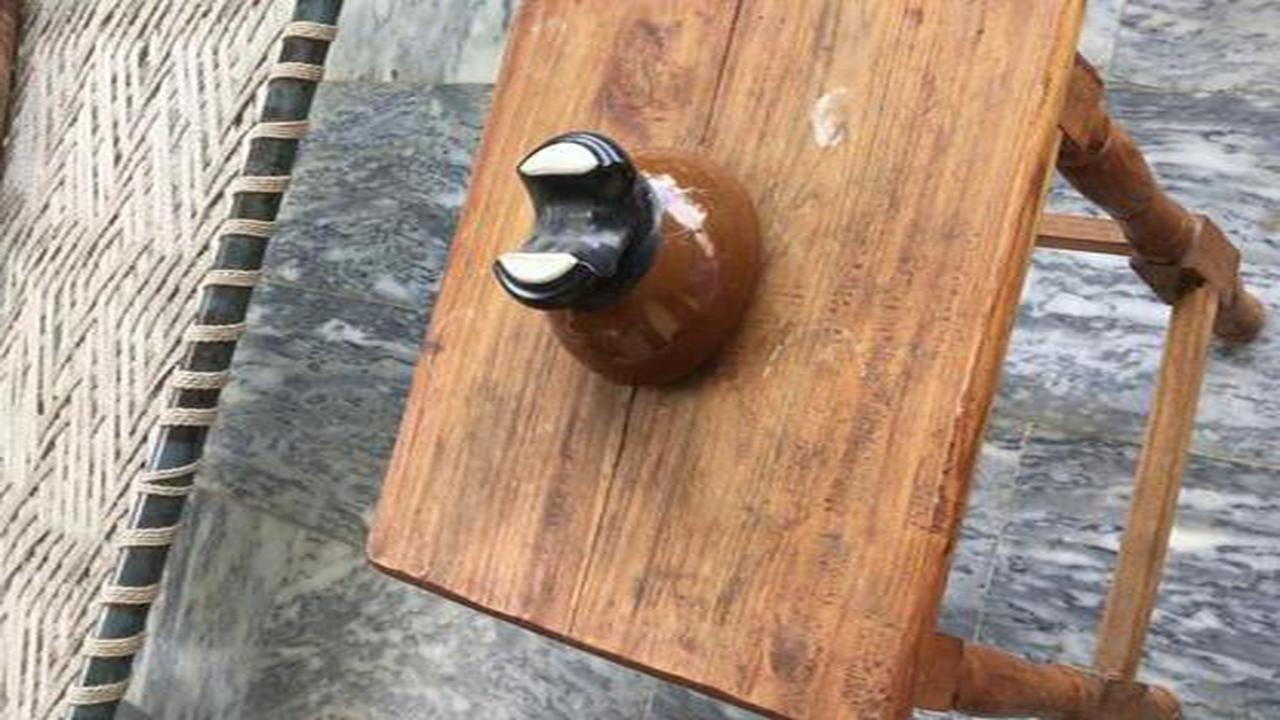insulator_pin: (477, 125, 782, 406)
